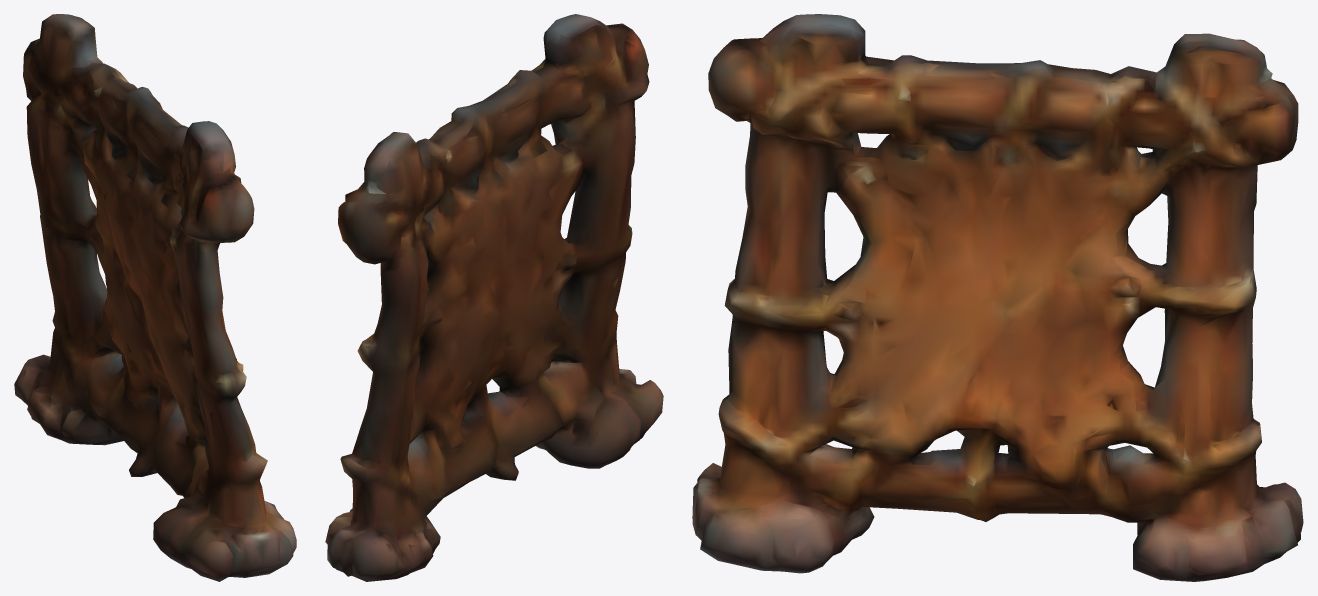
File: tanning_rack.glb
3 views of the same model, side by side, from view 1: azimuth 30°, elevation 25°; view 2: azimuth 150°, elevation 25°; view 3: azimuth 270°, elevation 25° (orthographic). The views are drawn at different scales.
Visible parts, largest first — view 1: model; view 2: model; view 3: model.
Part boxes in pixels (<box>): model: <box>14,14,296,581</box>; model: <box>325,14,663,581</box>; model: <box>692,14,1303,581</box>.
Bounding box in the file's own units: 0.4932 × 1.52 × 1.6.
Materials: 1 (1 with a texture image).
